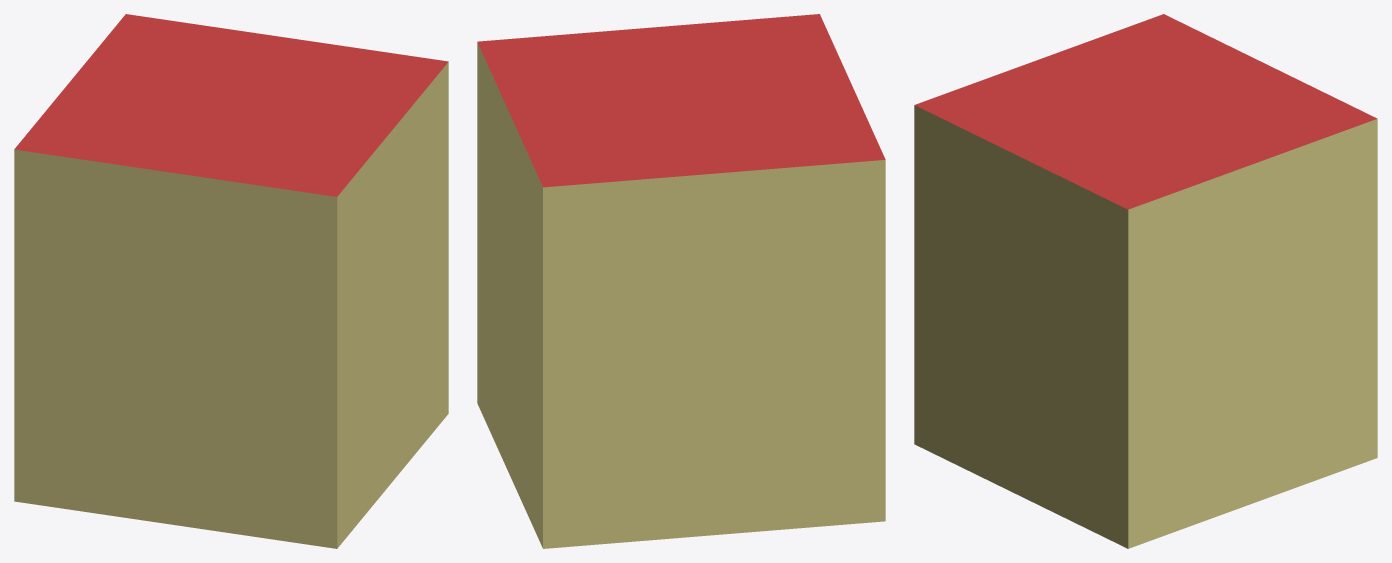
3 views of the same model, side by side, from view 1: azimuth 30°, elevation 25°; view 2: azimuth 150°, elevation 25°; view 3: azimuth 270°, elevation 25° (orthographic). The views are drawn at different scales.
Bounding box in the file's own units: 6.48 × 6.49 × 5.24.
